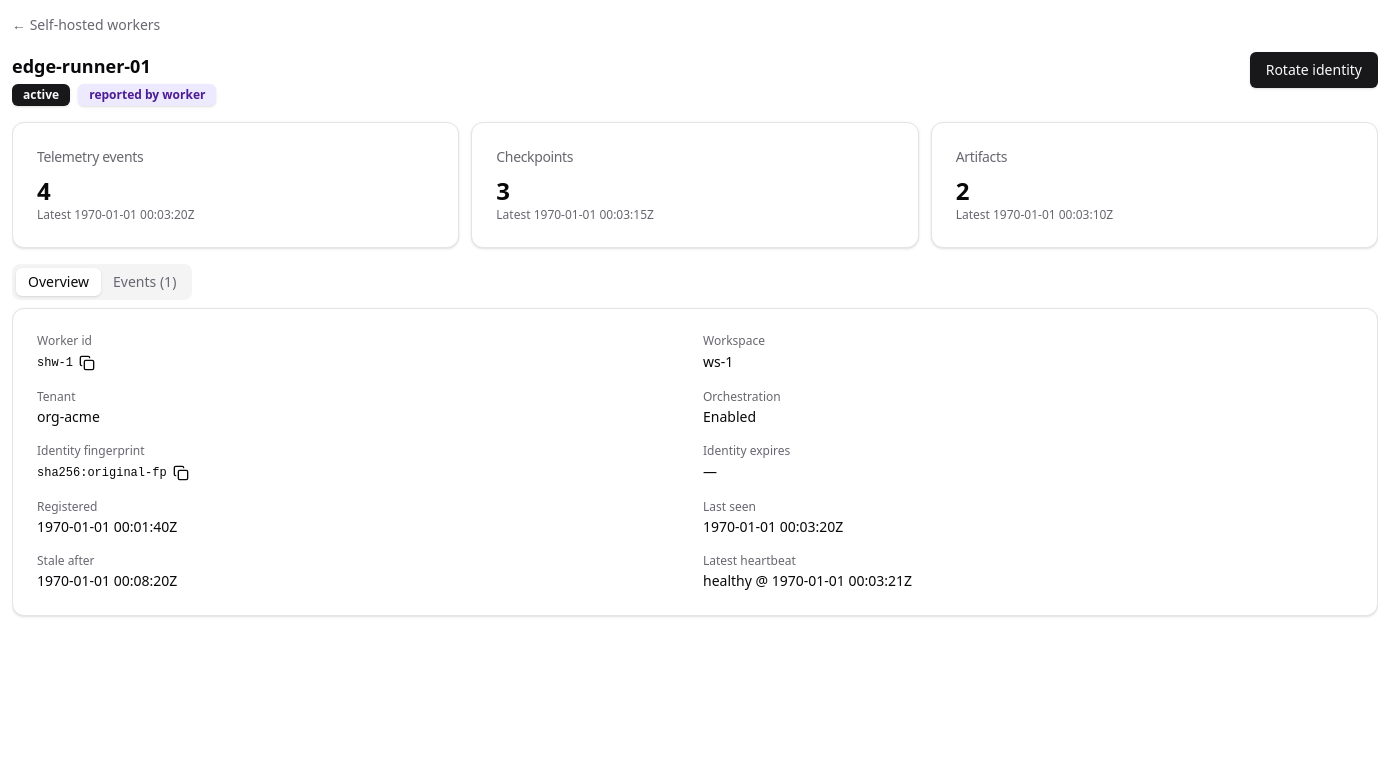
Test: SelfHostedWorkerDetailPage › renders overview, checkpoint/artifact counts, and reported events
The image size is (1390, 780).
Check: the heading "edge-runner-01" is shown, box x1=12 y1=54 x2=151 y2=78
Check: the text with test id "count-checkpoints" reads "3", box x1=496 y1=174 x2=510 y2=207
Note: events tab lists the reported event + its parsed correlation
Click the tab "Events (1)".
click(145, 282)  # box x1=101 y1=268 x2=188 y2=296
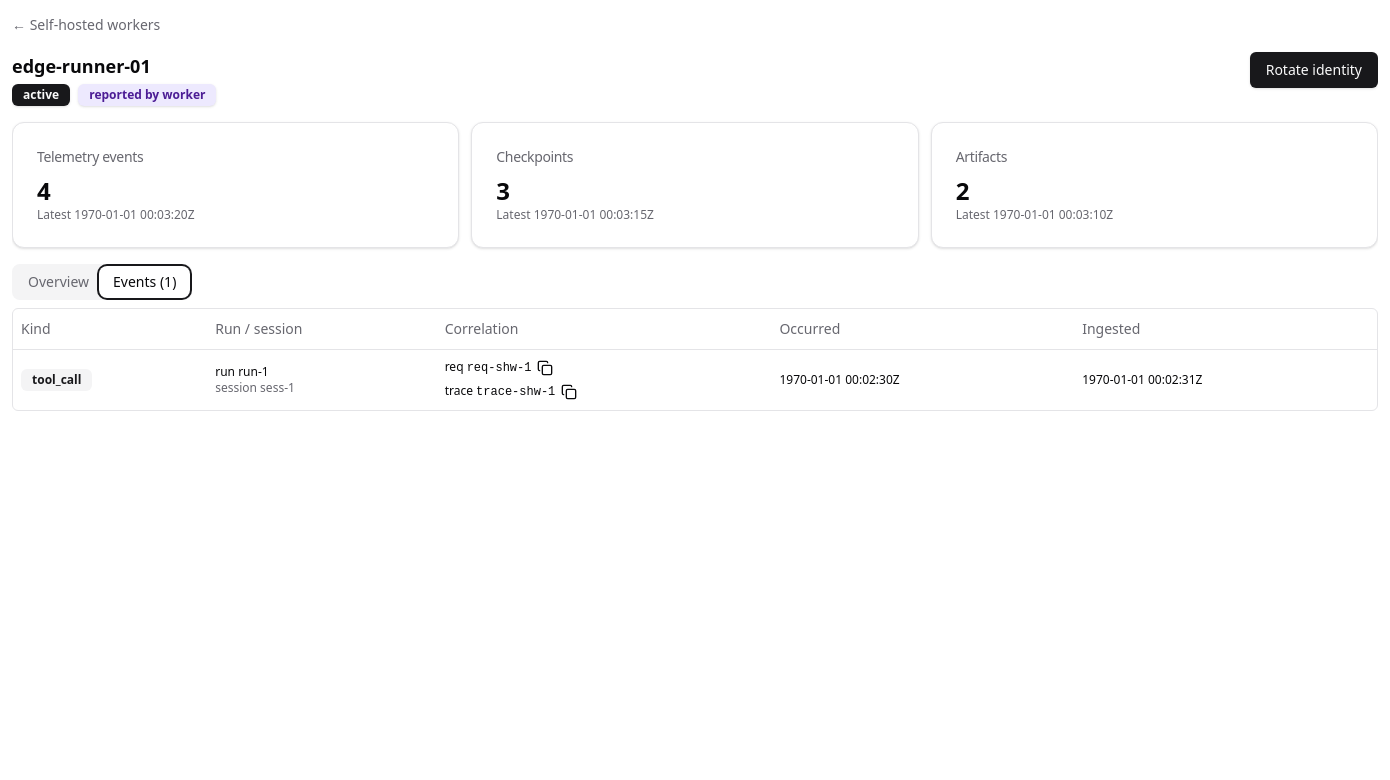
Check: the row with test id "worker-event-ev-1" is shown, box x1=13 y1=349 x2=1377 y2=410
Check: the text "tool_call" is shown, box x1=21 y1=368 x2=92 y2=390
Check: the text "req-shw-1" is shown, box x1=467 y1=360 x2=532 y2=376
